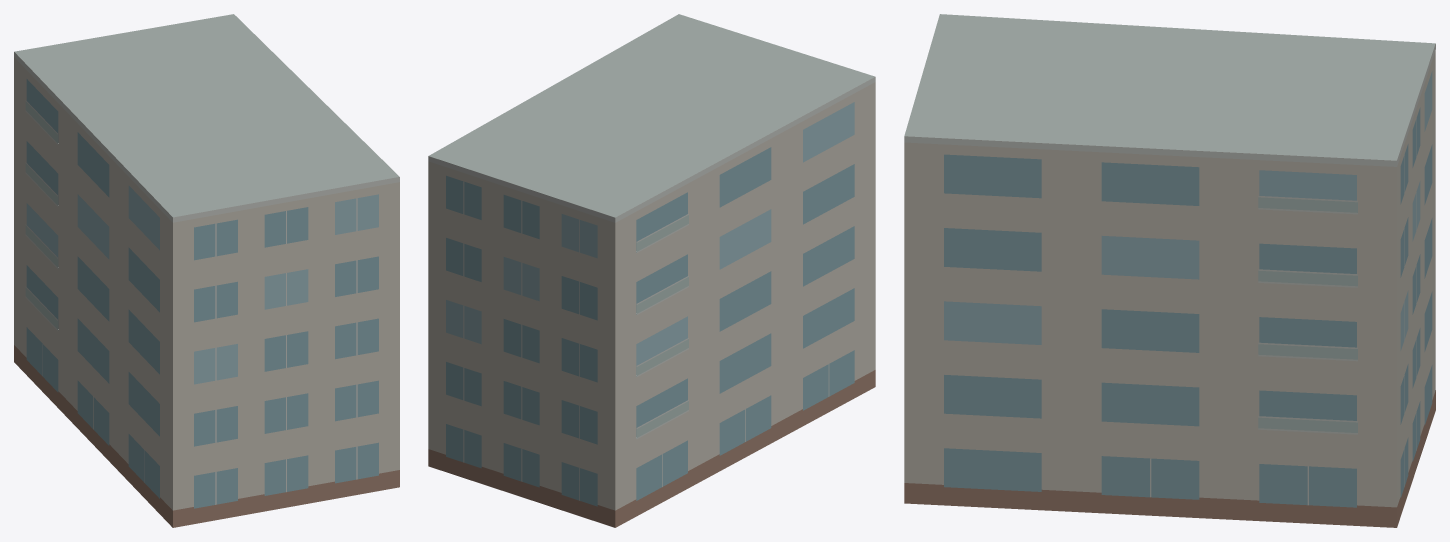
Rendered from survey-upis-32910532.glb.
3 views of the same model, side by side, from view 1: azimuth 30°, elevation 25°; view 2: azimuth 150°, elevation 25°; view 3: azimuth 270°, elevation 25° (orthographic). The views are drawn at different scales.
Visible parts, largest first — view 1: survey-upis-32910532.tmp; view 2: survey-upis-32910532.tmp; view 3: survey-upis-32910532.tmp.
Boxes of the visible parts, x1,y1,x2,y2 form: survey-upis-32910532.tmp: (14, 14, 399, 527); survey-upis-32910532.tmp: (428, 14, 875, 527); survey-upis-32910532.tmp: (904, 14, 1435, 527).
Size of the model in its own units: 12.35 by 14.4 by 18.9.
